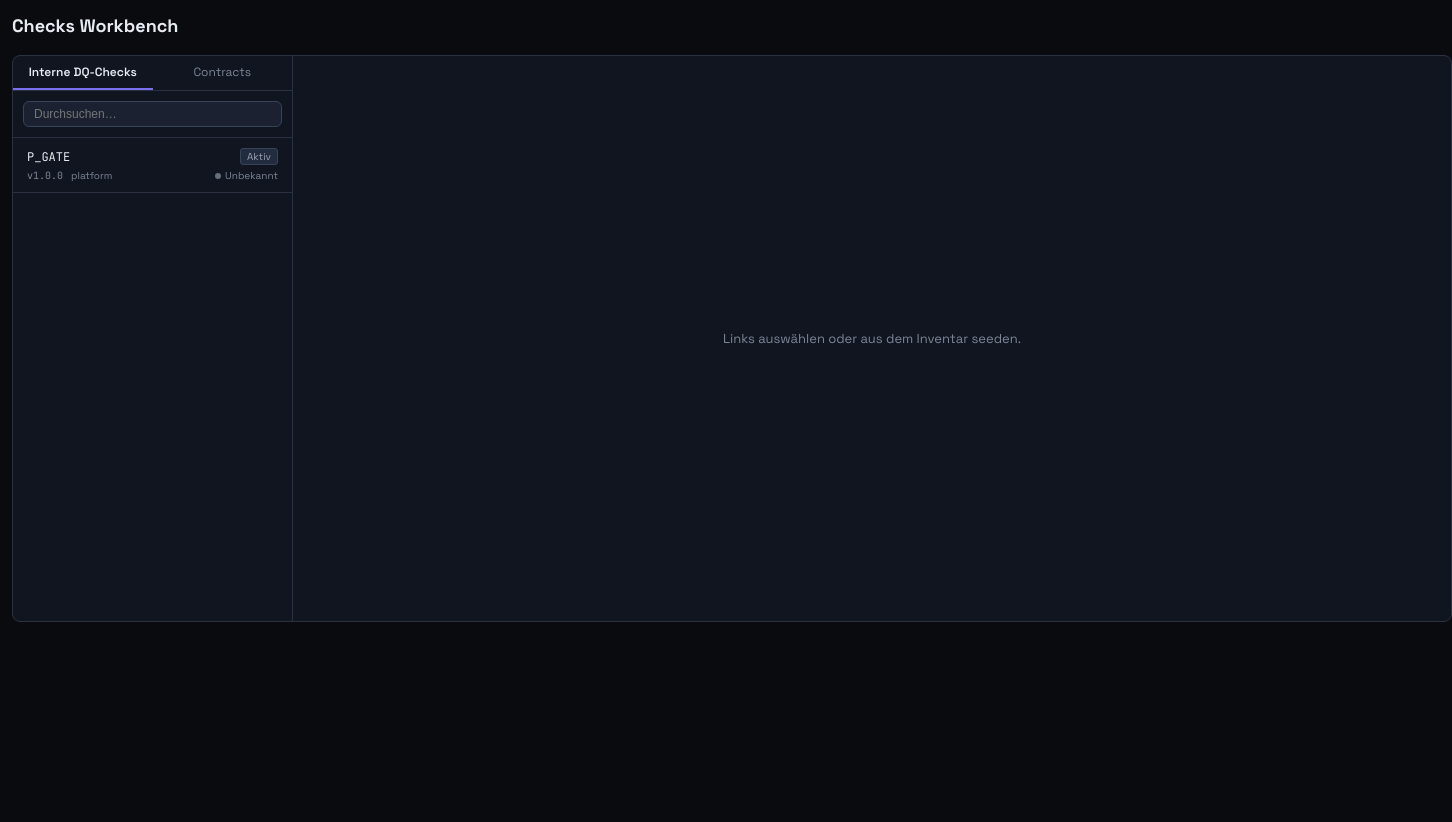
Test case: ContractWorkbench frame split › splits the list into internal and contract frames and filters by the active one
Expected: the text "P_GATE" is shown, left=27, top=148, right=70, bottom=164
Expected: the text "P_CONTRACT" is not shown
Click the button "Contracts".
click(222, 73)  # box left=152, top=56, right=292, bottom=90
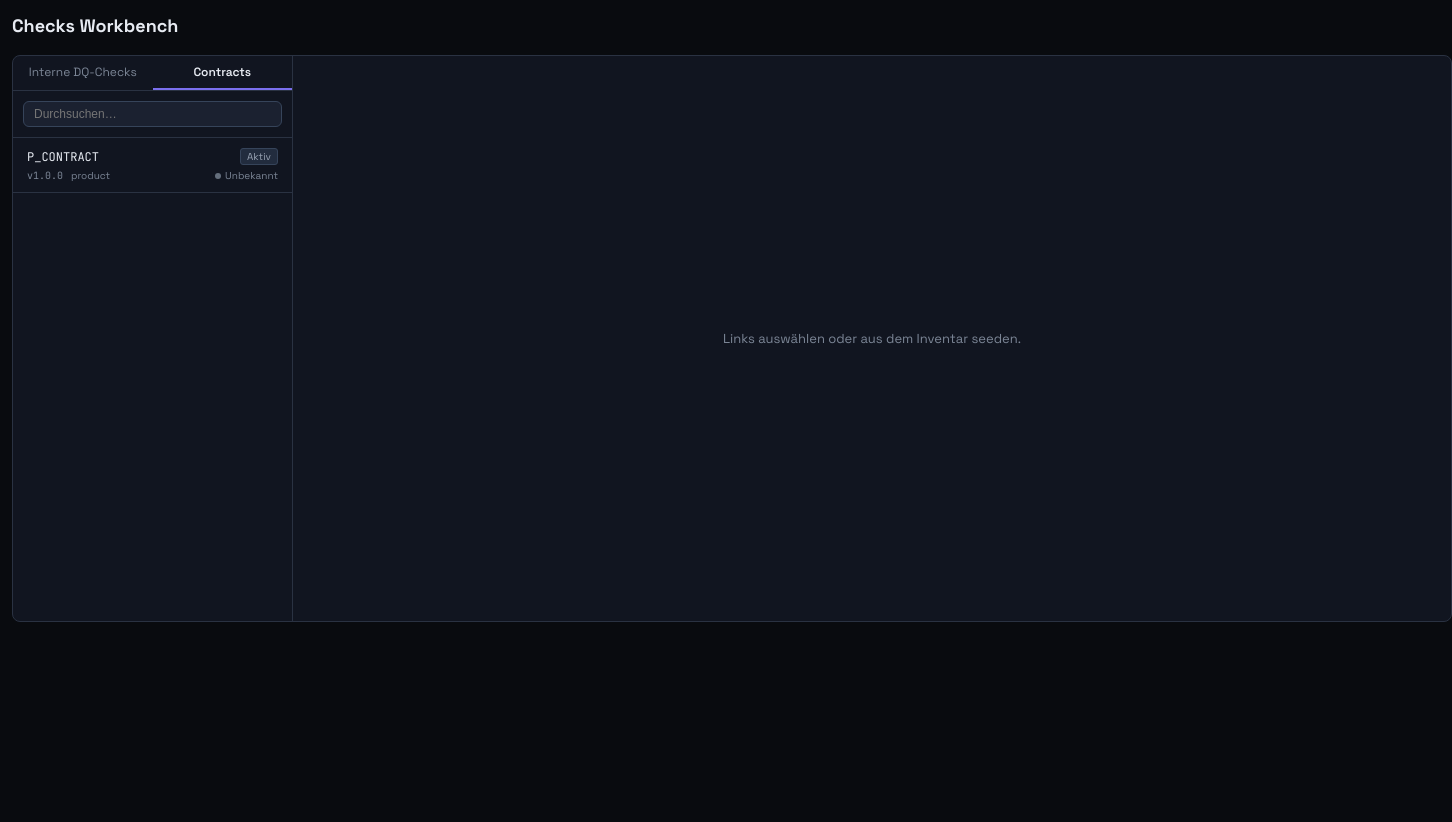
Result: the text "P_CONTRACT" is shown at left=27, top=148, right=99, bottom=164
Result: the button "P_GATE" is gone
